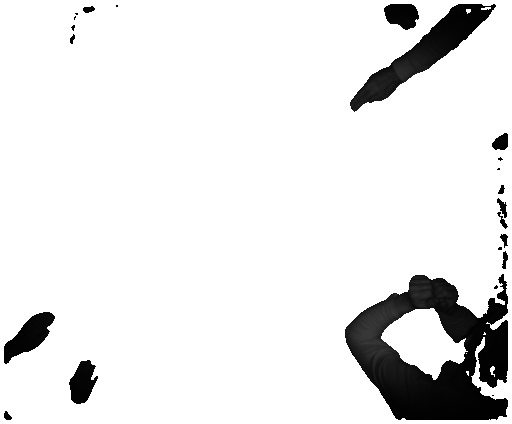fist: (403, 273, 441, 311), (428, 276, 466, 314)
hand: (344, 71, 401, 111), (14, 312, 55, 354), (66, 360, 103, 405)
